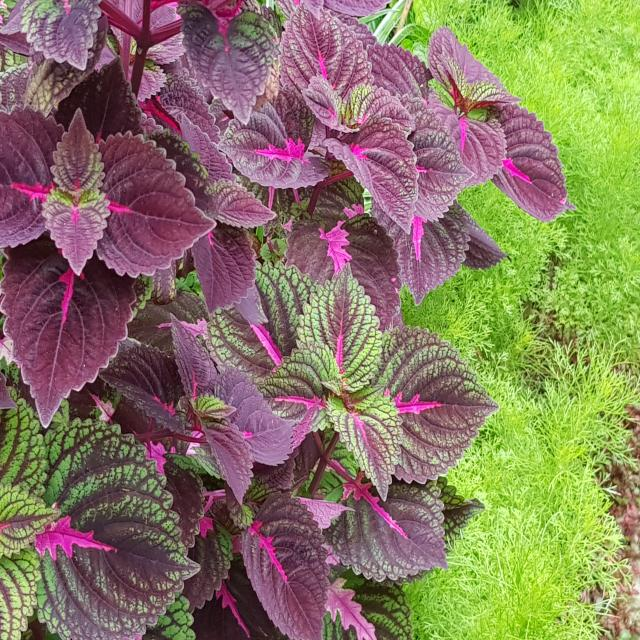Coleus: (0, 251, 428, 637), (161, 0, 494, 232), (8, 79, 196, 353)
Dill: (503, 278, 615, 640), (577, 0, 640, 285)
